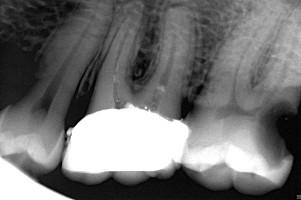Endo-Periodontal Lesion: (131, 50, 153, 81)
